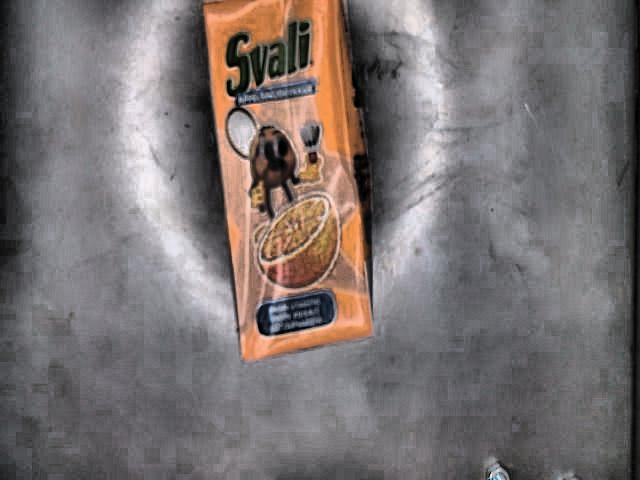Paper: (204, 0, 373, 363)
